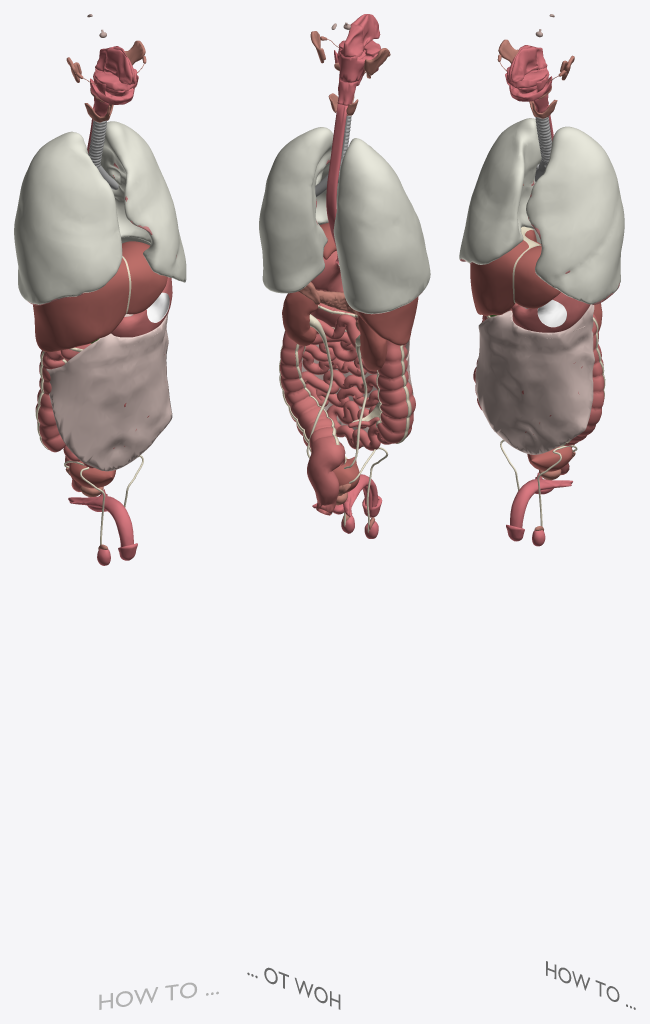
File: visceral.glb
3 views of the same model, side by side, from view 1: azimuth 30°, elevation 25°; view 2: azimuth 150°, elevation 25°; view 3: azimuth 330°, elevation 25° (orthographic). The views are drawn at different scales.
Parts seen in each view (by area): view 1: Greater omentum, Ascending colon, HOW TO ...; view 2: Greater omentum, Ascending colon, HOW TO ...; view 3: Greater omentum, Ascending colon, Mucosa of stomach, HOW TO ....
Part boxes in pixels (<box>): Greater omentum: <box>14,14,186,565</box>; Ascending colon: <box>33,46,172,544</box>; HOW TO ...: <box>99,982,218,1009</box>; Greater omentum: <box>259,22,430,538</box>; Ascending colon: <box>279,14,418,532</box>; HOW TO ...: <box>247,967,340,1009</box>; Greater omentum: <box>459,14,624,546</box>; Ascending colon: <box>470,45,605,526</box>; Mucosa of stomach: <box>537,299,566,327</box>; HOW TO ...: <box>546,961,635,1009</box>.
Bounding box in the file's own units: 0.3223 × 1.67 × 0.1926.
Materials: 4 (4 with a texture image).
